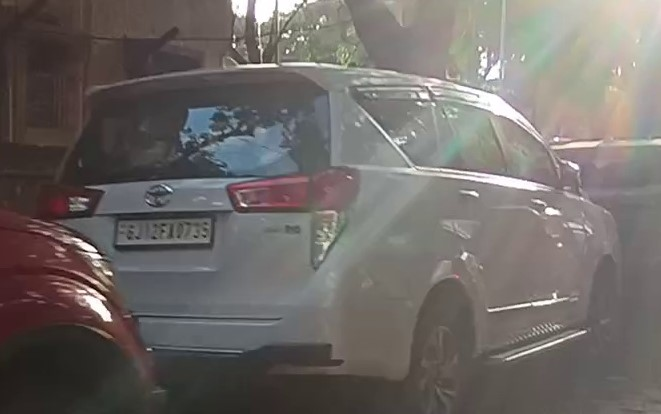GJ12FA0735: (114, 217, 213, 245)
